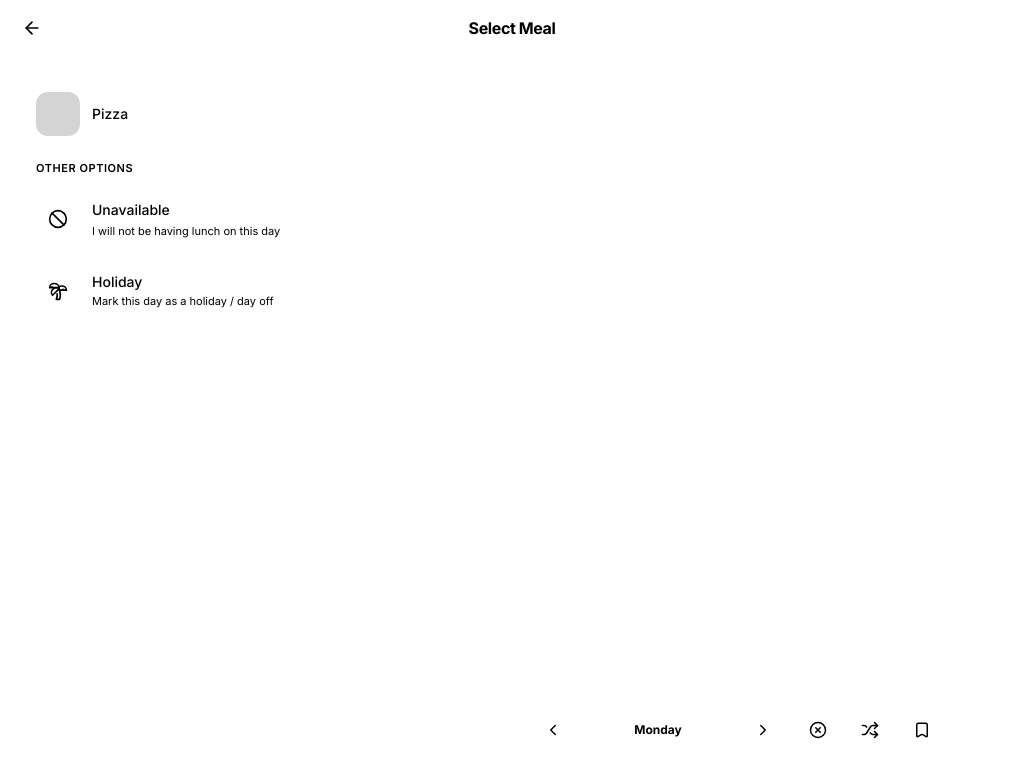
Scenario: SelectMealPage › renders and navigates through days
Check: the text "Monday" is shown, box [634, 722, 682, 738]
Check: the text "Pizza" is shown, box [92, 105, 128, 122]
Note: Select a meal
Click the radio button labelled "Pizza" at (58, 114), box [24, 80, 1000, 148]
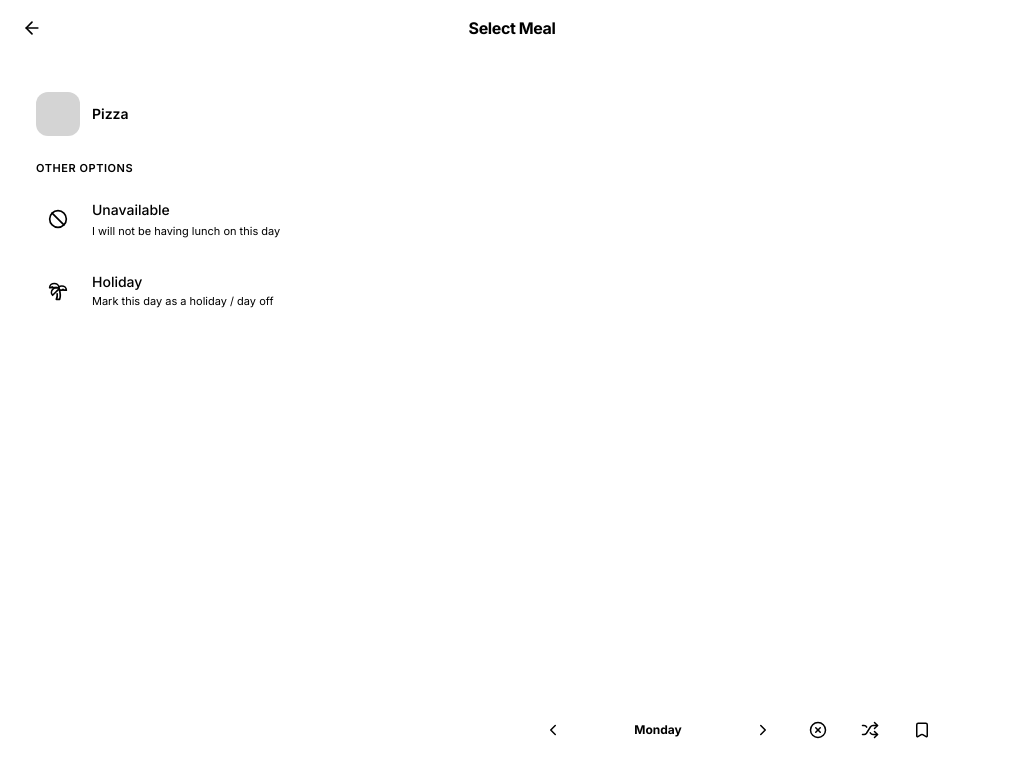
Note: Go to Tuesday
Click the button named "Next" at (763, 730), box [750, 717, 776, 743]
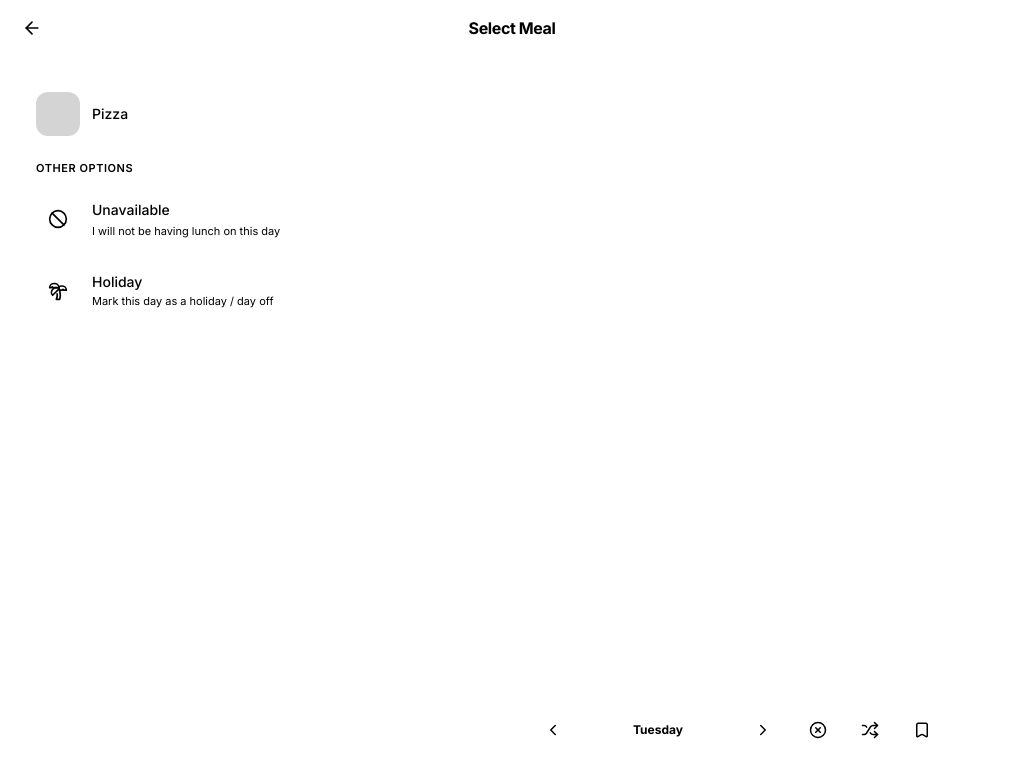
Check: the text "Tuesday" is shown, box [633, 722, 683, 738]
Note: Go back to Monday
Click the button named "Previous day navigation" at (553, 730), box [540, 717, 566, 743]
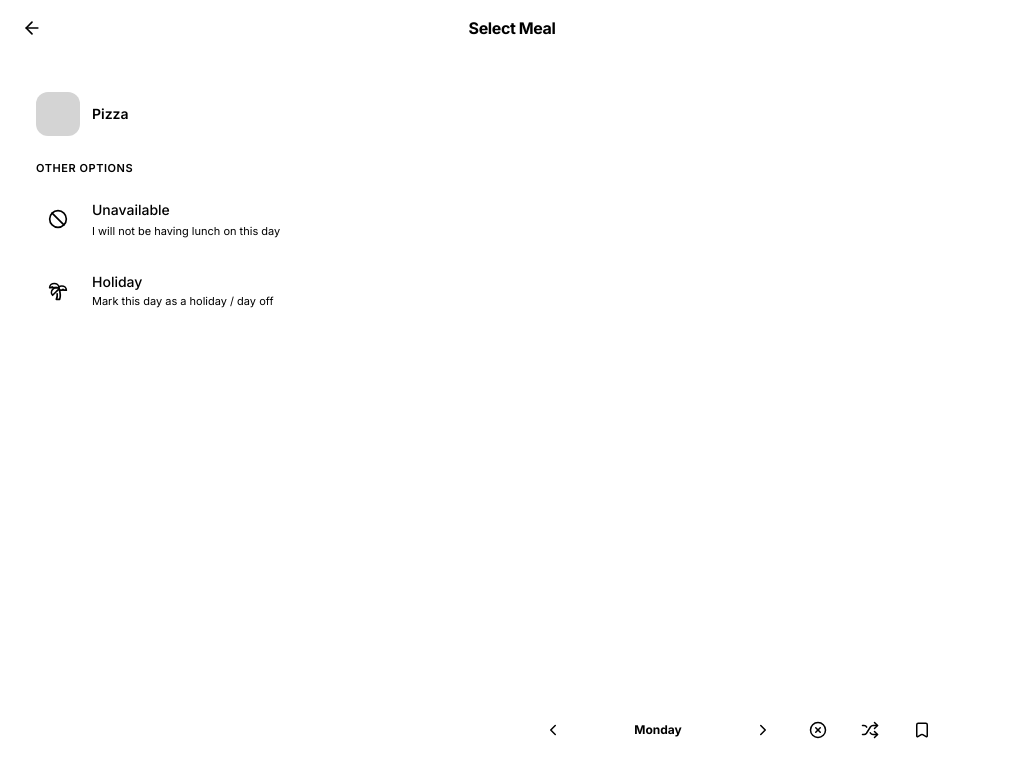
Check: the text "Monday" is shown, box [634, 722, 682, 738]
